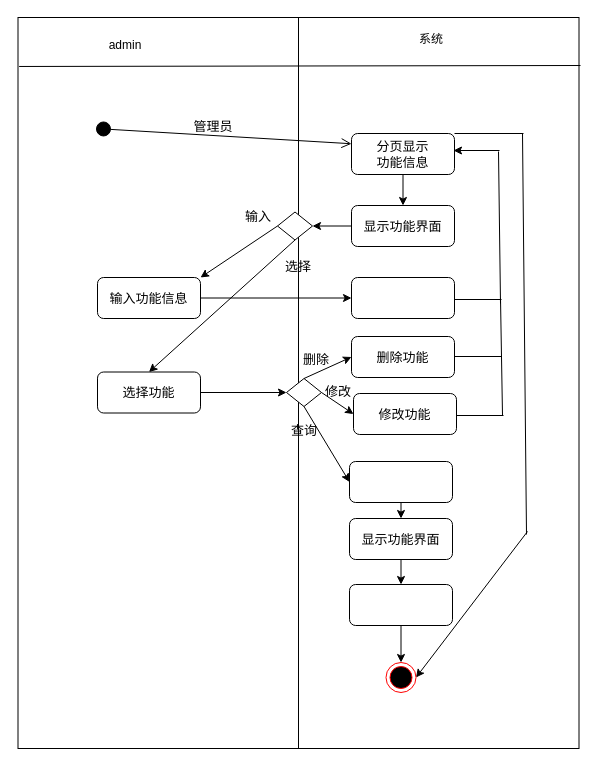
Image size: 599x767. Some labels were removed from this diagram. Here are the shapes that lost their labels. From the top down, the box of each, then its label:
(350, 276, 454, 318): 新增功能
(348, 460, 452, 502): 查询功能
(348, 584, 452, 626): 退出
